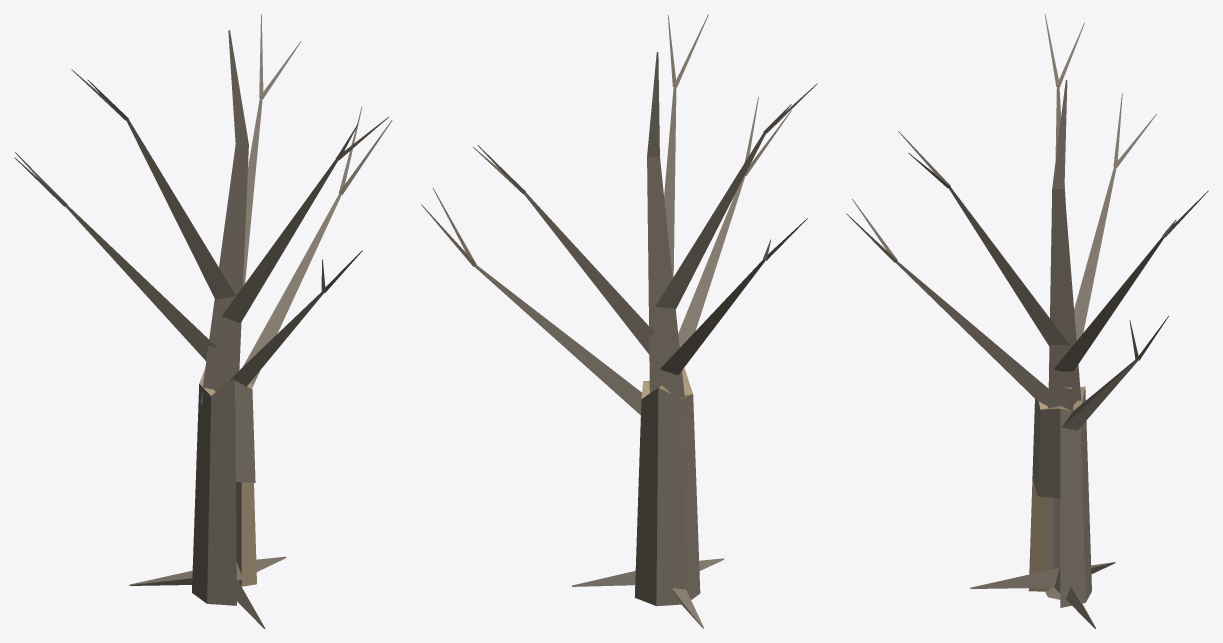
File: oak-dead-lod2.glb
3 renders of one model, left to right at view 1: azimuth 30°, elevation 25°; view 2: azimuth 150°, elevation 25°; view 3: azimuth 270°, elevation 25°, orthographic. The views are drawn at different scales.
Parts seen in each view (by area): view 1: tree_oak-dead_LOD2; view 2: tree_oak-dead_LOD2; view 3: tree_oak-dead_LOD2.
Boxes of the visible parts, x1,y1,x2,y2 form: tree_oak-dead_LOD2: [14, 14, 392, 628]; tree_oak-dead_LOD2: [421, 14, 817, 628]; tree_oak-dead_LOD2: [846, 14, 1208, 628].
Bounding box in the file's own units: 7.94 × 11.08 × 7.04.
